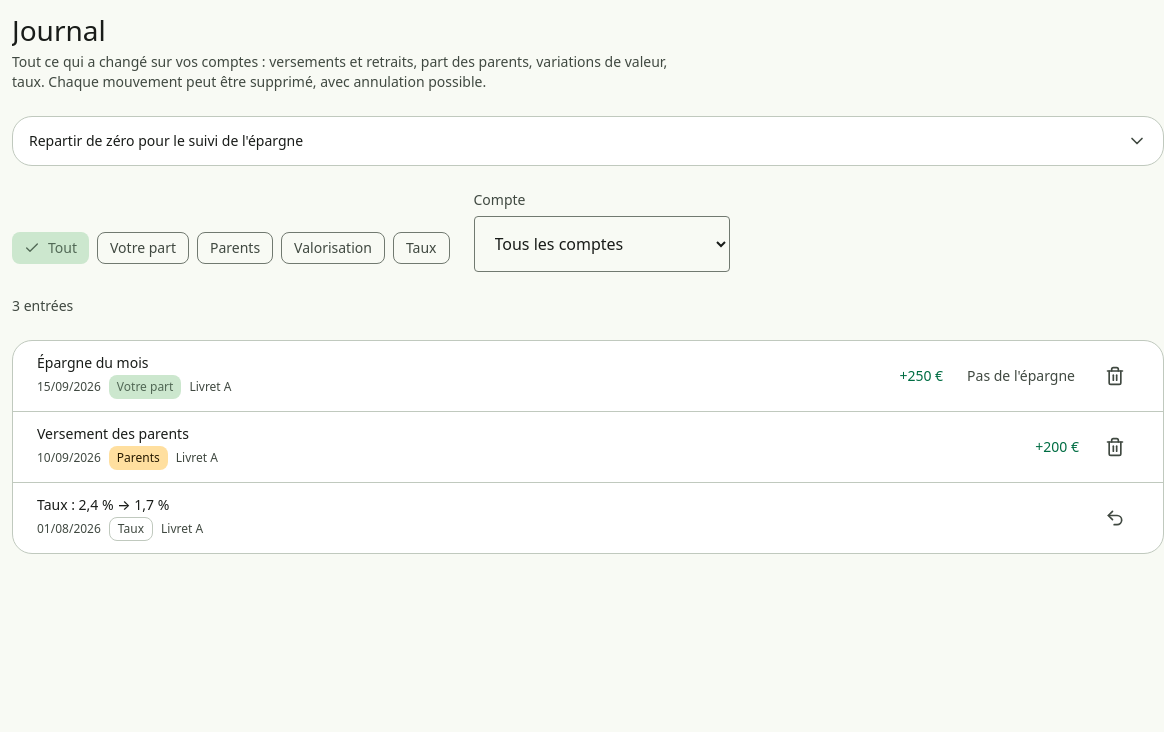
Test: Journal › filtres par type et par compte
This screenshot has width=1164, height=732.
Click the button "Parents" at (235, 248), box [197,232,273,264]
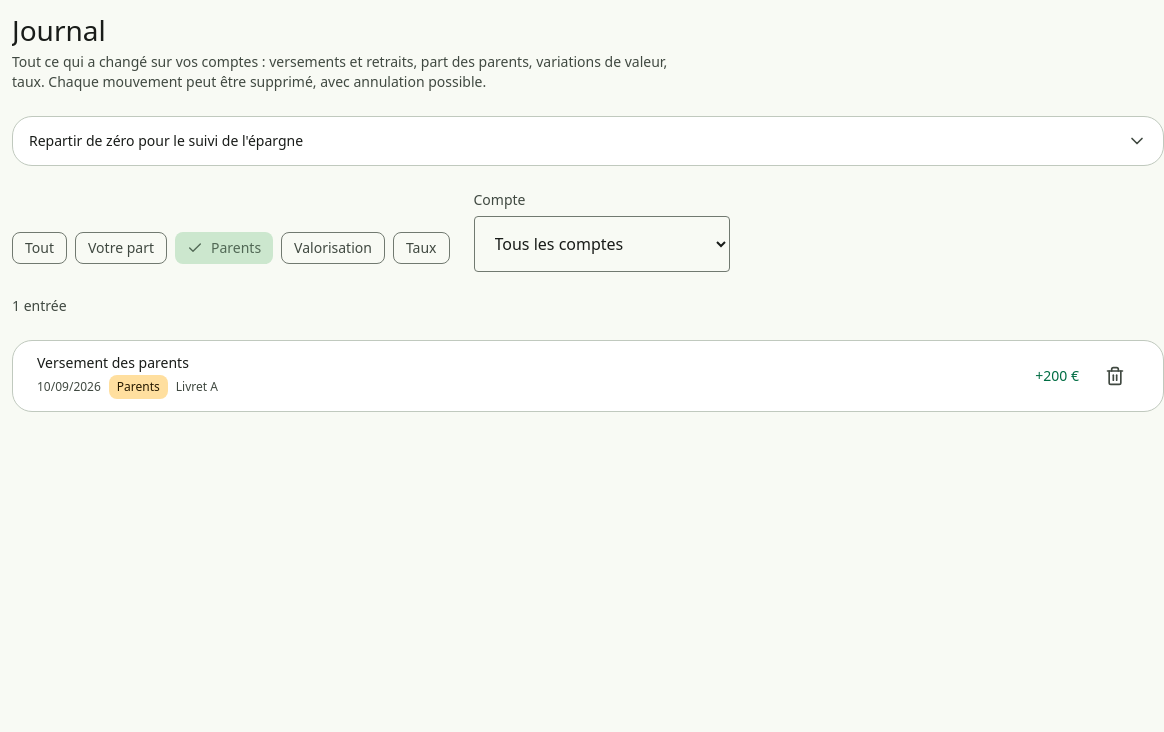
Expected: the number of list items is 1, [13,341,1163,411]
Click the button "Taux" at (421, 248), box [393,232,450,264]
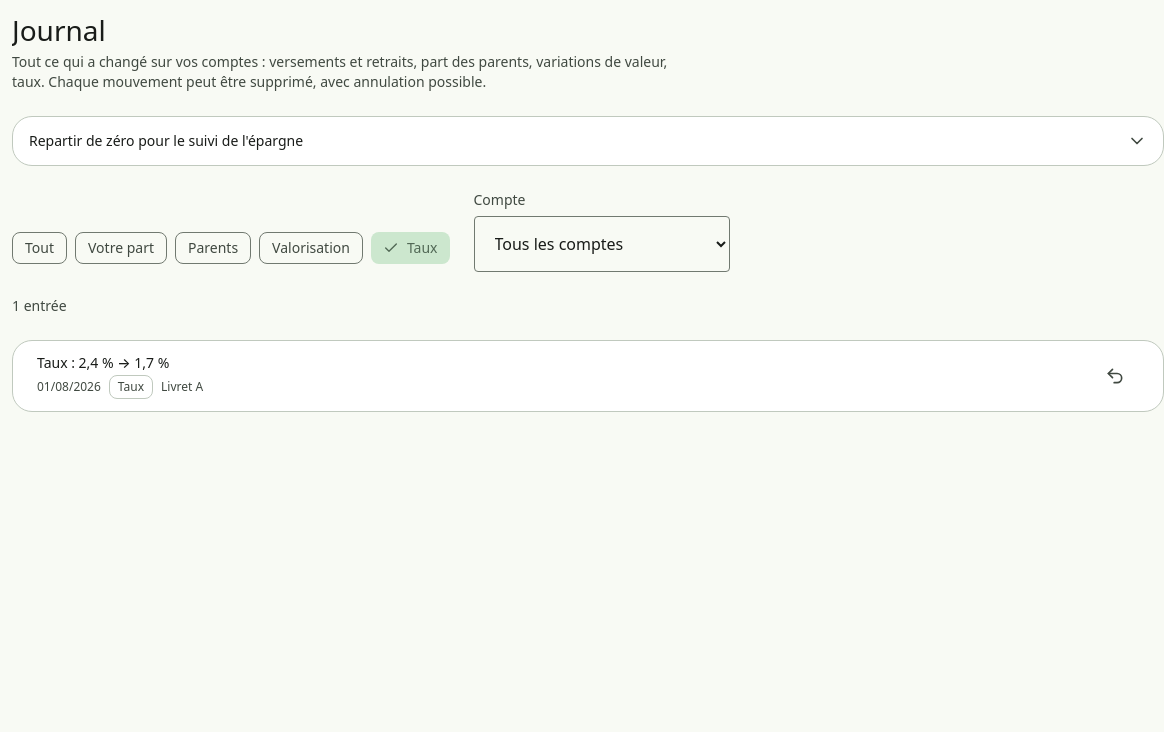
Expected: the list item shows "Taux", [118,378,144,395]
Click the button "Tout" at (40, 248), box [12,232,67,264]
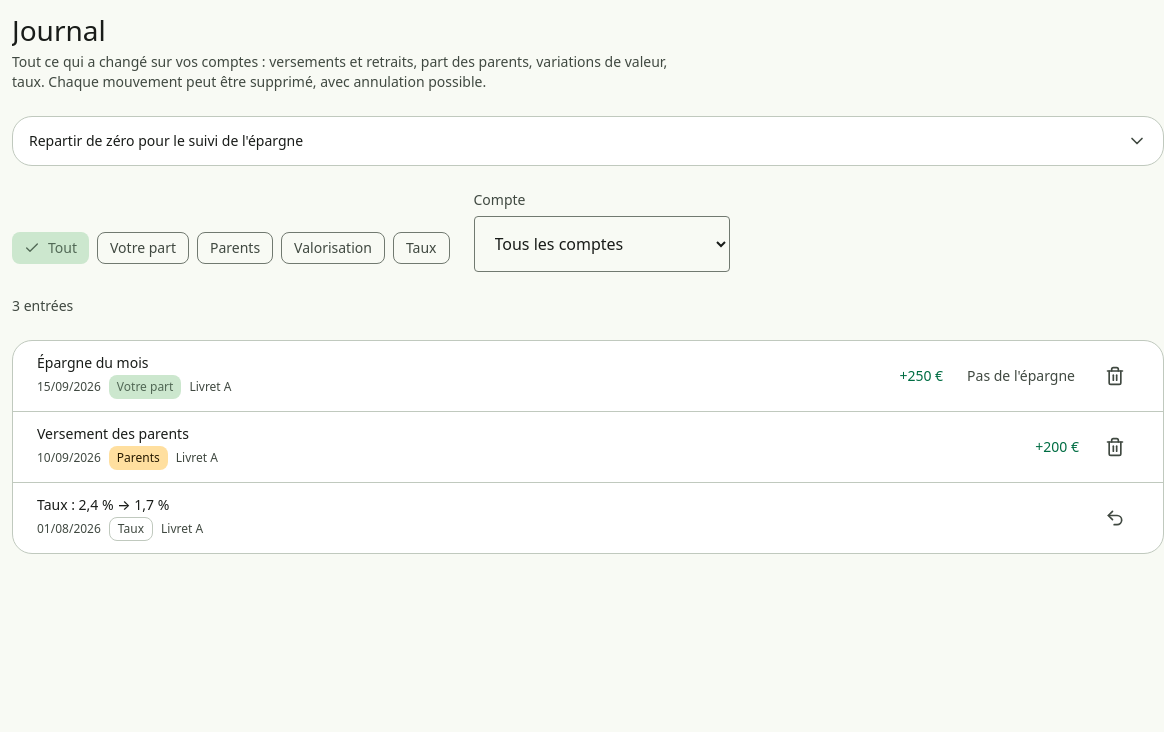
Select "LDDS" in the dropdown labelled "Compte" at (602, 244), box [474,216,730,272]
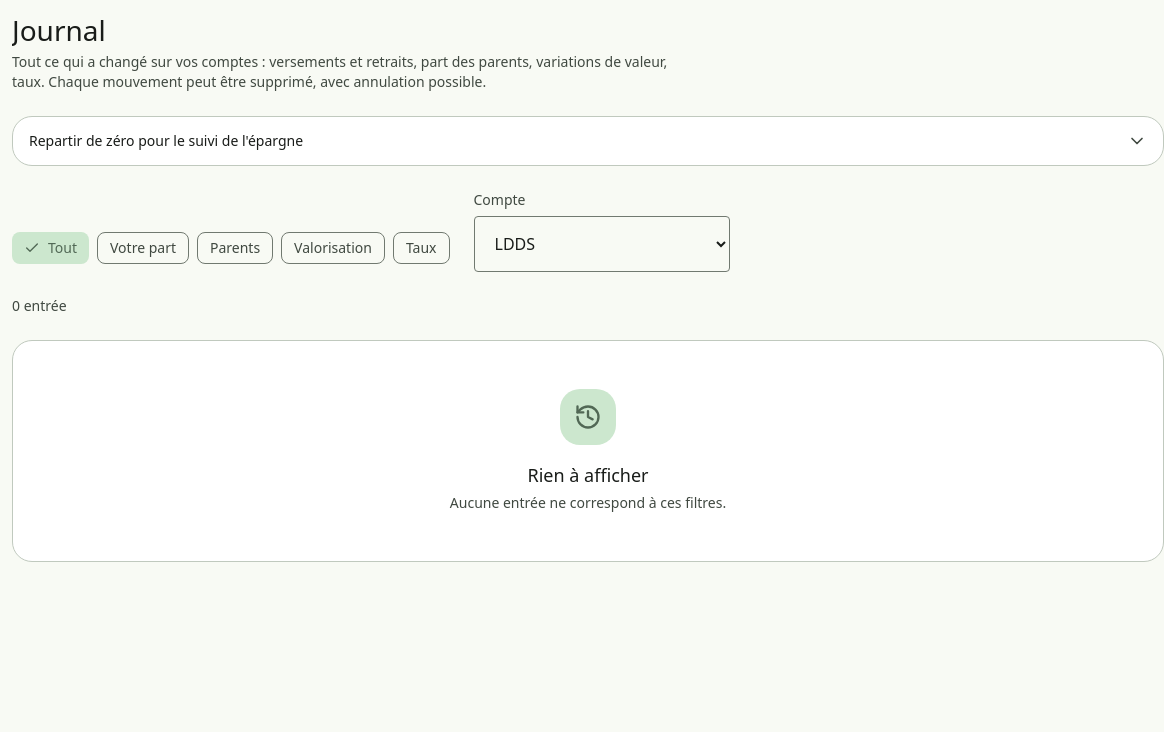
Expected: the text "Aucune entrée ne correspond à ces filtres." is shown, [450,493,726,512]
Expected: the text "0 entrée" is shown, [12,296,67,315]
